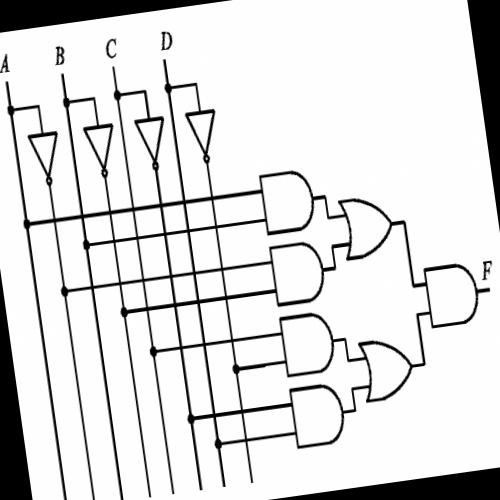and: (246, 155, 325, 245), (414, 251, 491, 340), (257, 232, 335, 314), (268, 303, 346, 384), (278, 376, 354, 455)
not: (125, 102, 177, 182), (178, 95, 228, 174), (76, 111, 124, 190), (22, 120, 70, 198)
or: (349, 314, 425, 420), (330, 181, 404, 273)
